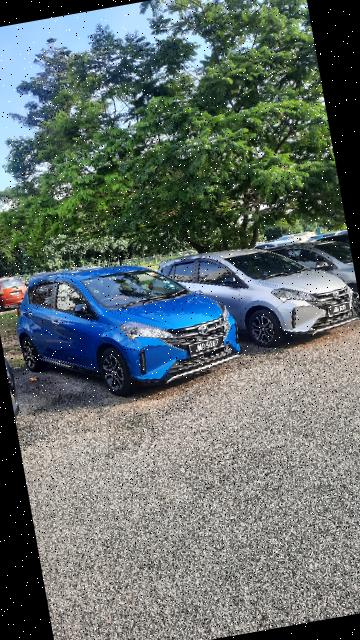License_Plate: (186, 335, 228, 359), (327, 301, 354, 317)
car: (10, 244, 247, 409), (156, 227, 360, 365)
